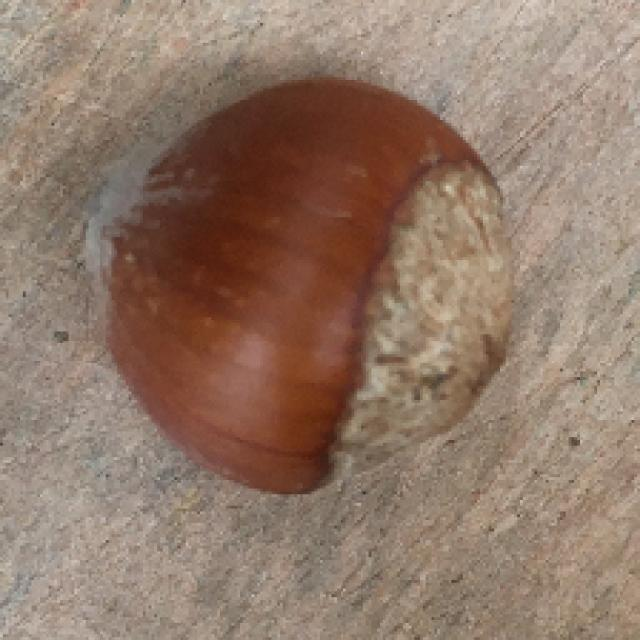qualityHazelnut: (89, 76, 510, 494)
